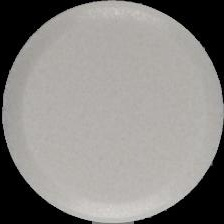0093-0900: (0, 0, 224, 224)
